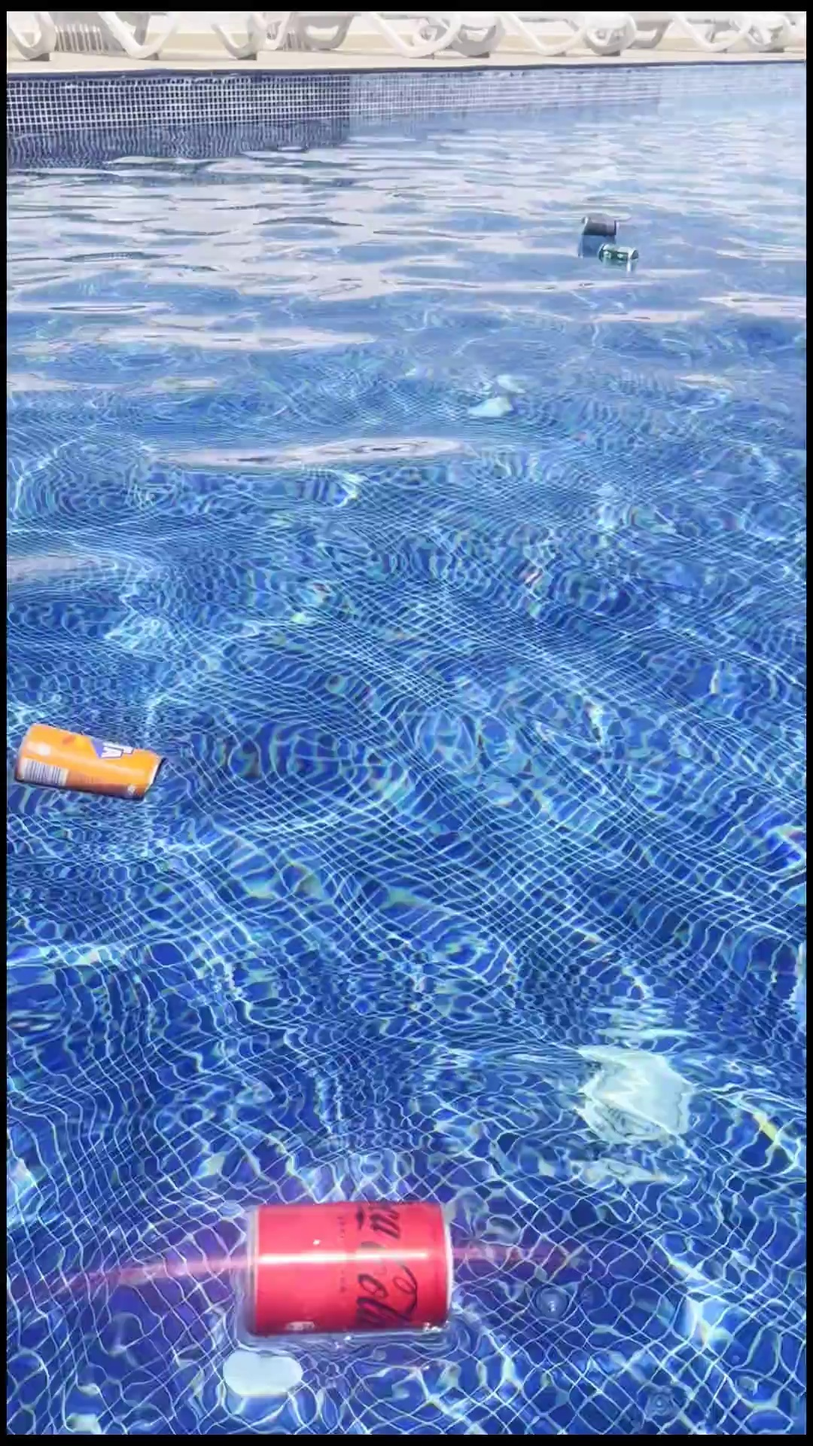debris: (234, 1171, 458, 1341), (13, 692, 166, 825), (594, 230, 641, 293), (578, 195, 615, 253)
